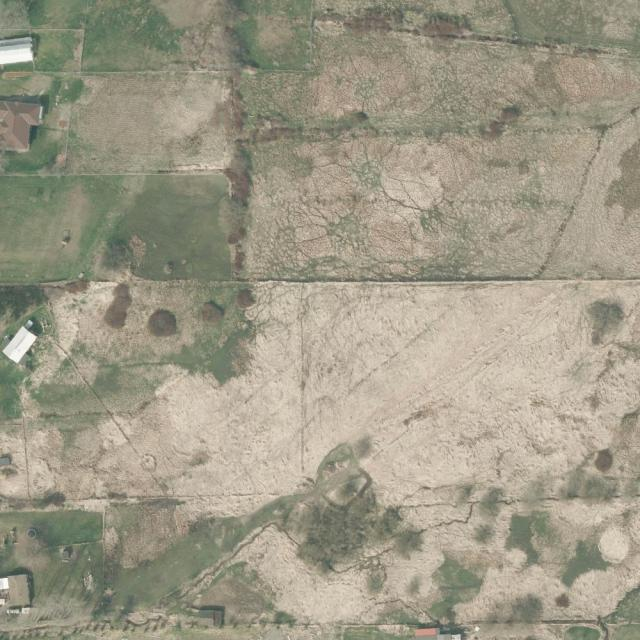agricultural_land: (0, 175, 231, 282), (65, 72, 233, 174)
building: (0, 101, 43, 153), (1, 318, 45, 365), (7, 574, 30, 607)
